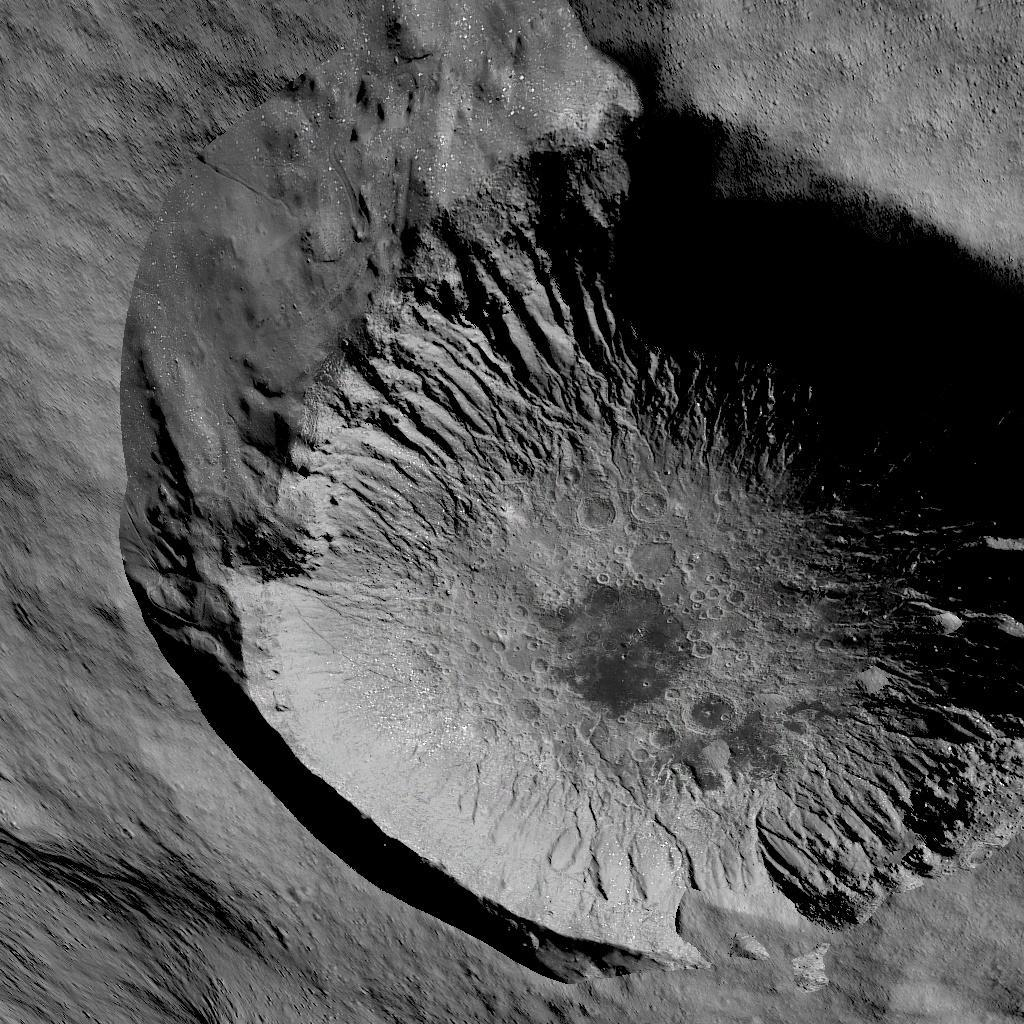Crater: (105, 0, 1024, 1024)
